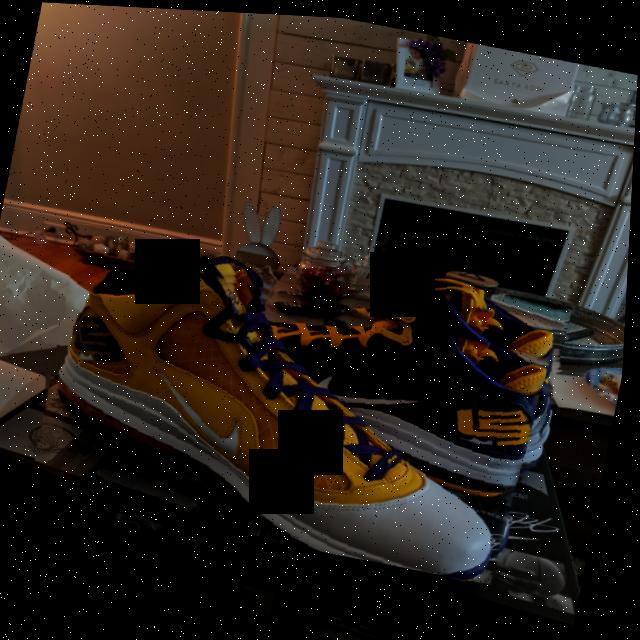shoe: (31, 240, 561, 584), (279, 251, 578, 445)
